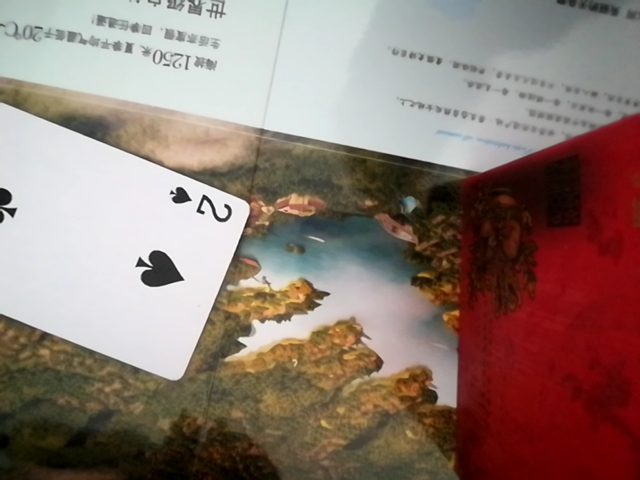ht 2: (0, 87, 252, 388)
